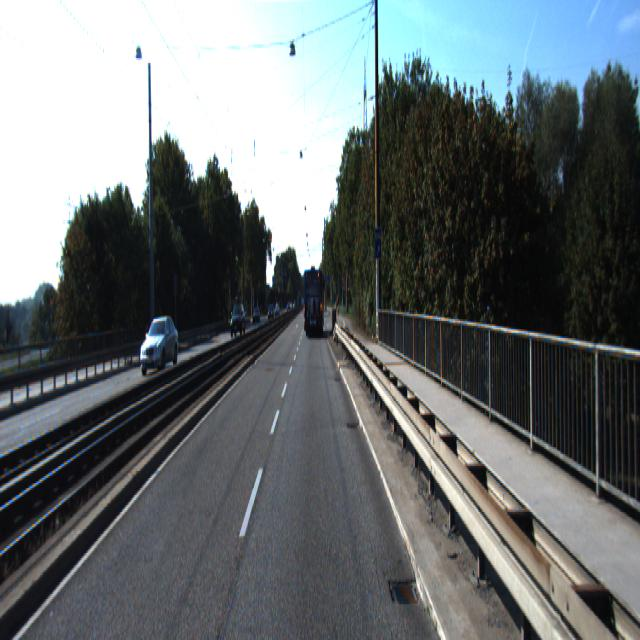Car: (138, 317, 180, 378), (304, 267, 326, 337), (230, 306, 246, 342)
